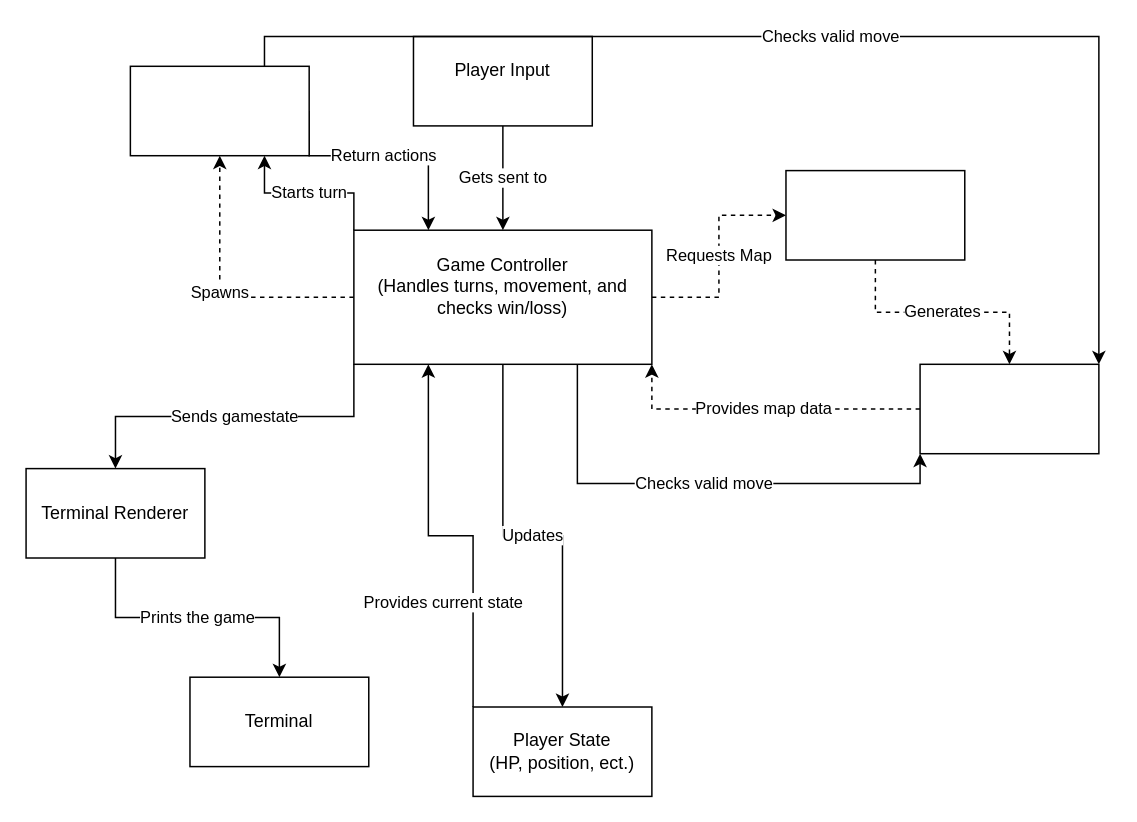
Some shapes in this 1137 by 822 pixel diagram are drawn without their labels. The centre of each missing label's shape, as x and y in pixels:
"Enemy System" belongs at point 219,110.
"Map" belongs at point 1009,408.
"Map Generator" belongs at point 874,214.
